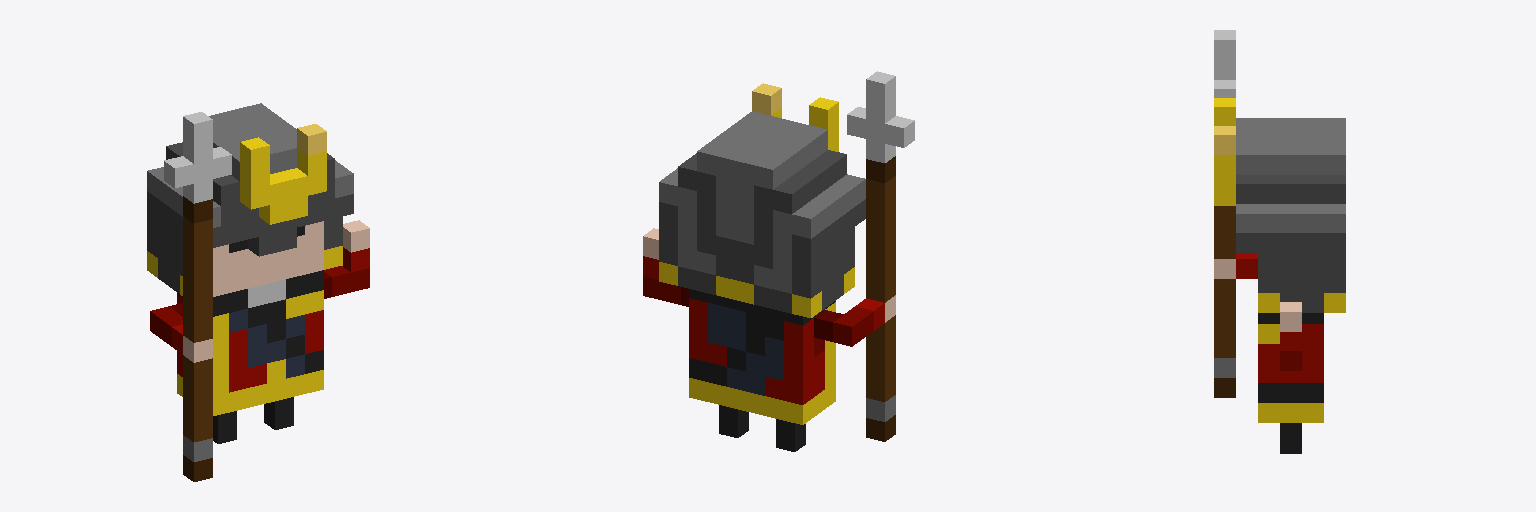
The picture shows the model from 3 angles: view 1: azimuth 30°, elevation 25°; view 2: azimuth 150°, elevation 25°; view 3: azimuth 270°, elevation 25°; orthographic projection.
Bounding box in the file's own units: 12 × 18 × 6.
Materials: 1 (1 with a texture image).